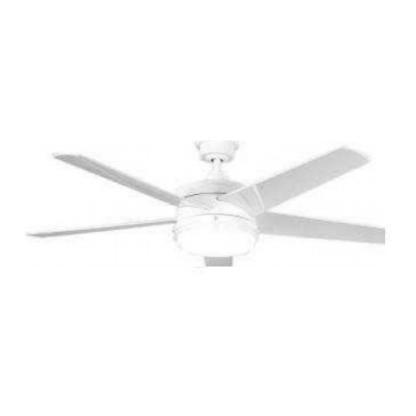ceiling-fan: (25, 140, 386, 268)
